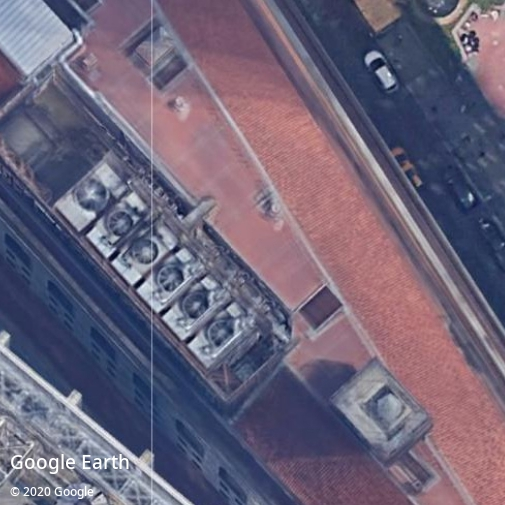Vent: (75, 179, 108, 211), (133, 239, 159, 265), (184, 292, 210, 318), (208, 321, 233, 348), (108, 211, 133, 237), (158, 266, 184, 291)
